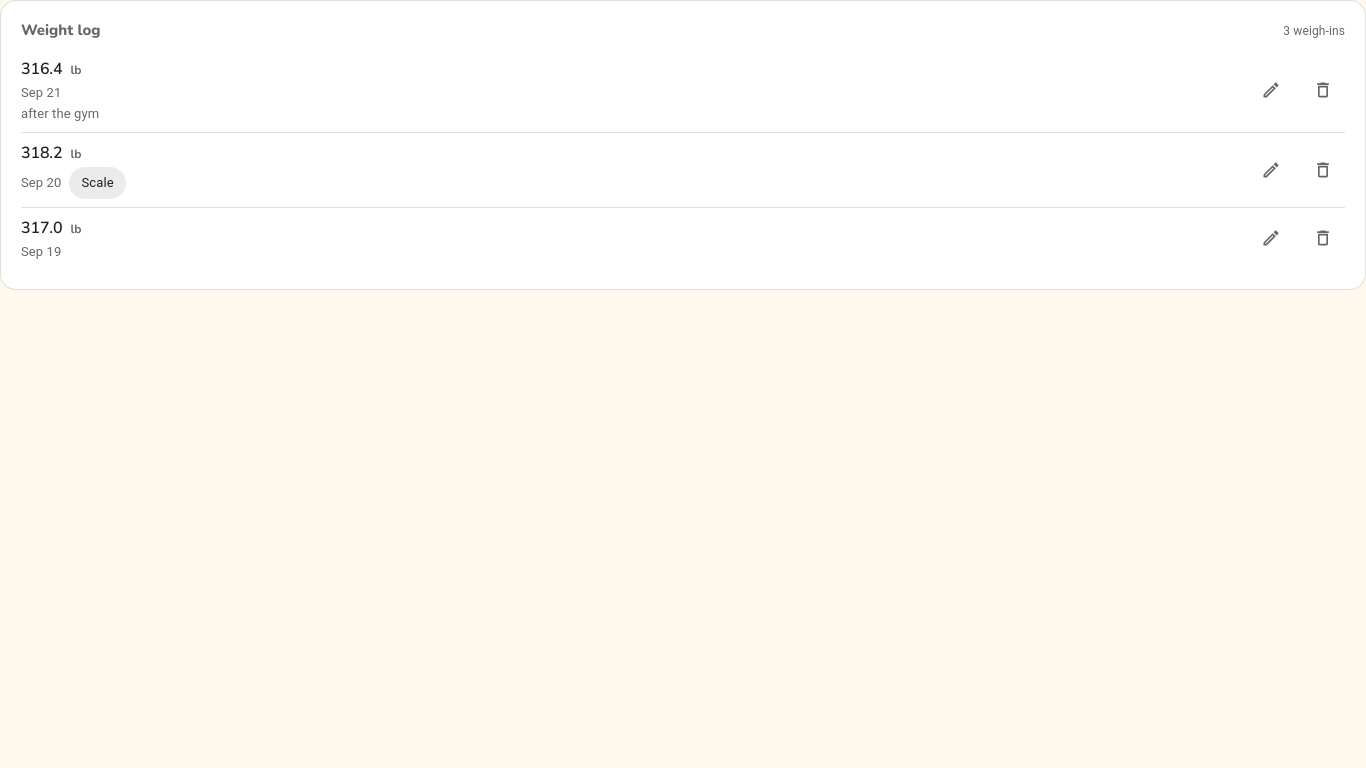
Test: WeightLogList › a transport failure is plain words, not the raw error
Click the button named "edit the 316.4" at point(1271, 90), box [1249,68,1293,112]
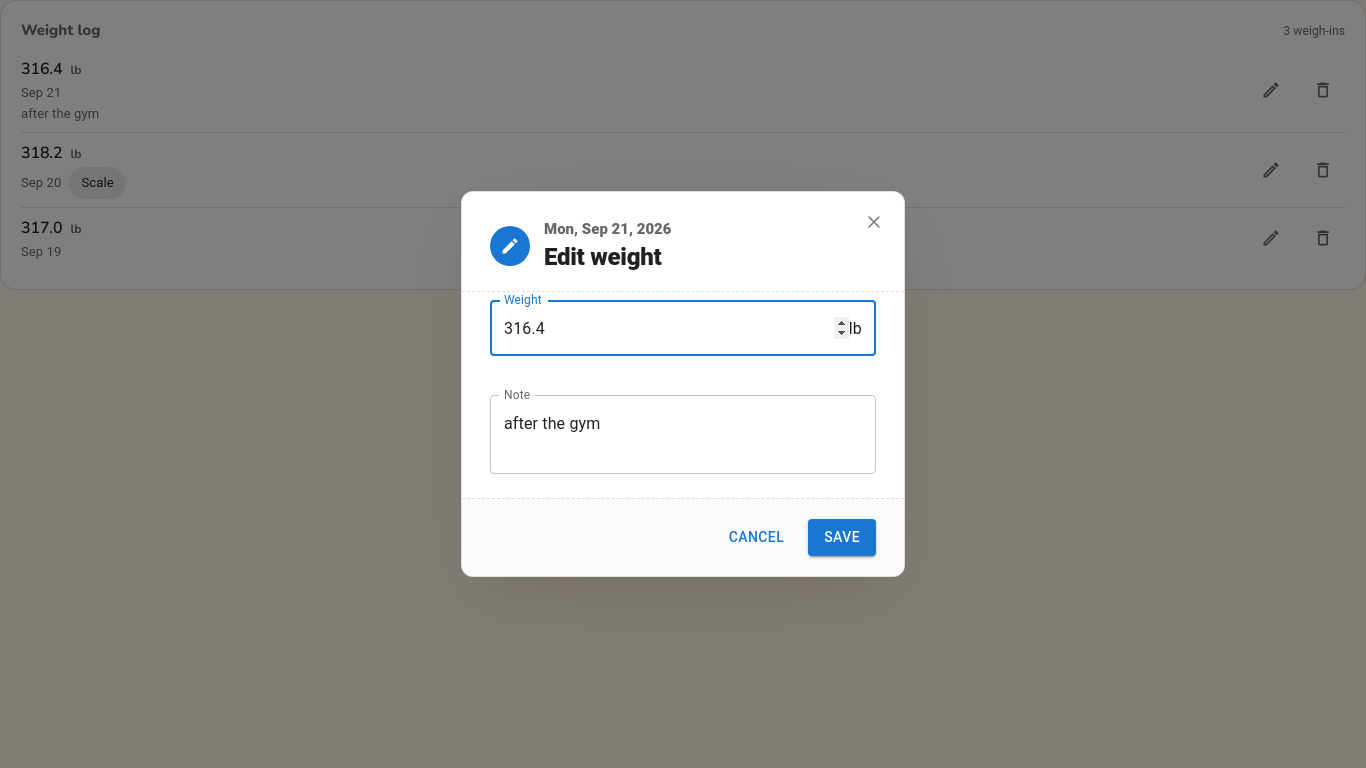
Click the button "Save" at point(842, 538), box [808,519,876,556]
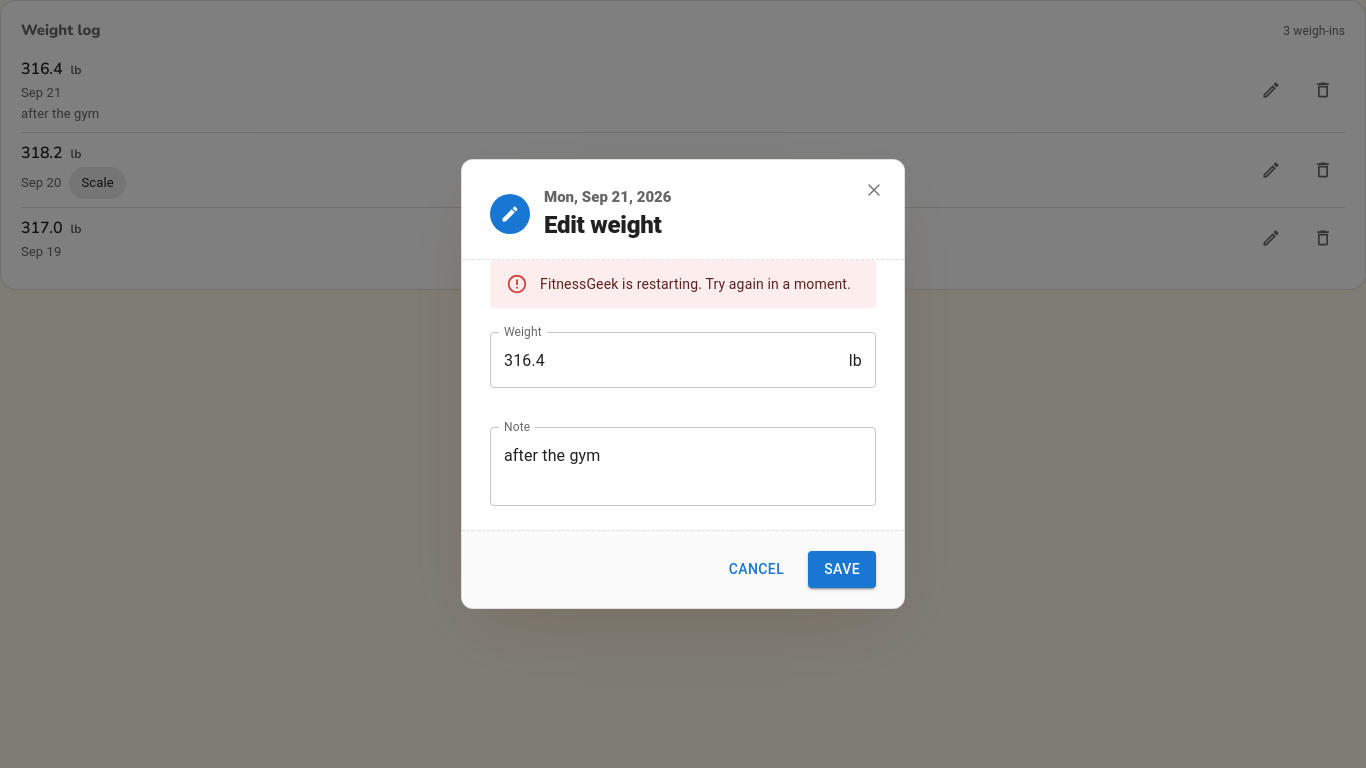
Expected: the message does not show "status code", [490,260,876,308]
Now the message shows "restarting", box [540,276,851,292]
